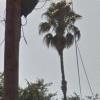Tree: (38, 0, 85, 56)
